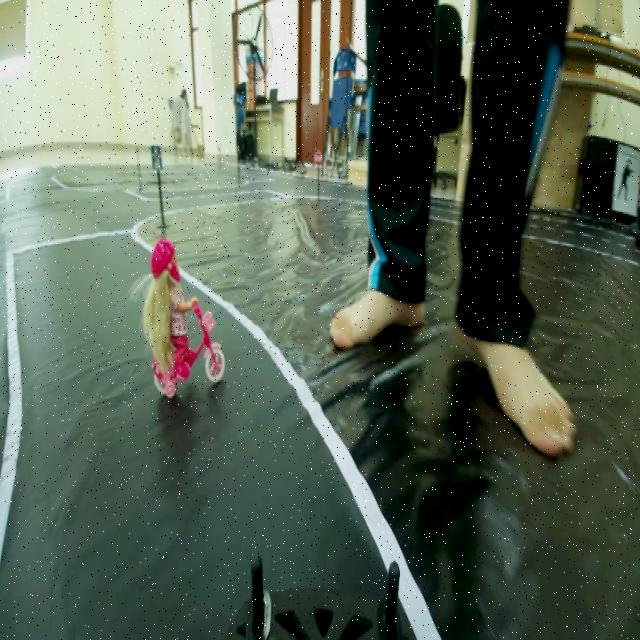pedestrian: (134, 234, 230, 396)
